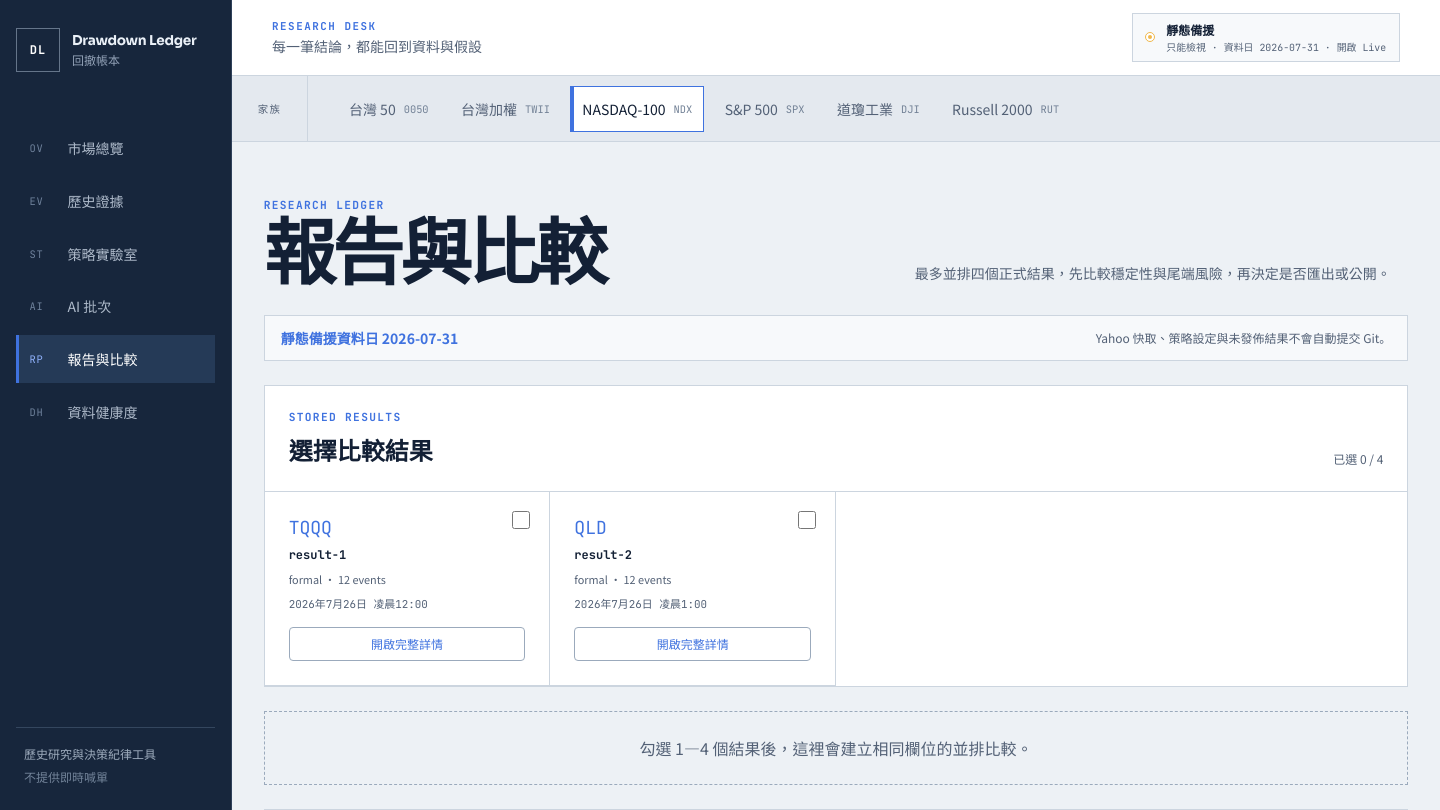
it: report and comparison ledger › selects up to four trusted results and compares their executable ratios
What coordinates should you click on to do the following:
click the checkbox named "選取結果 result-1"
I would click on:
 (521, 520)
Its box is [512,510,530,528].
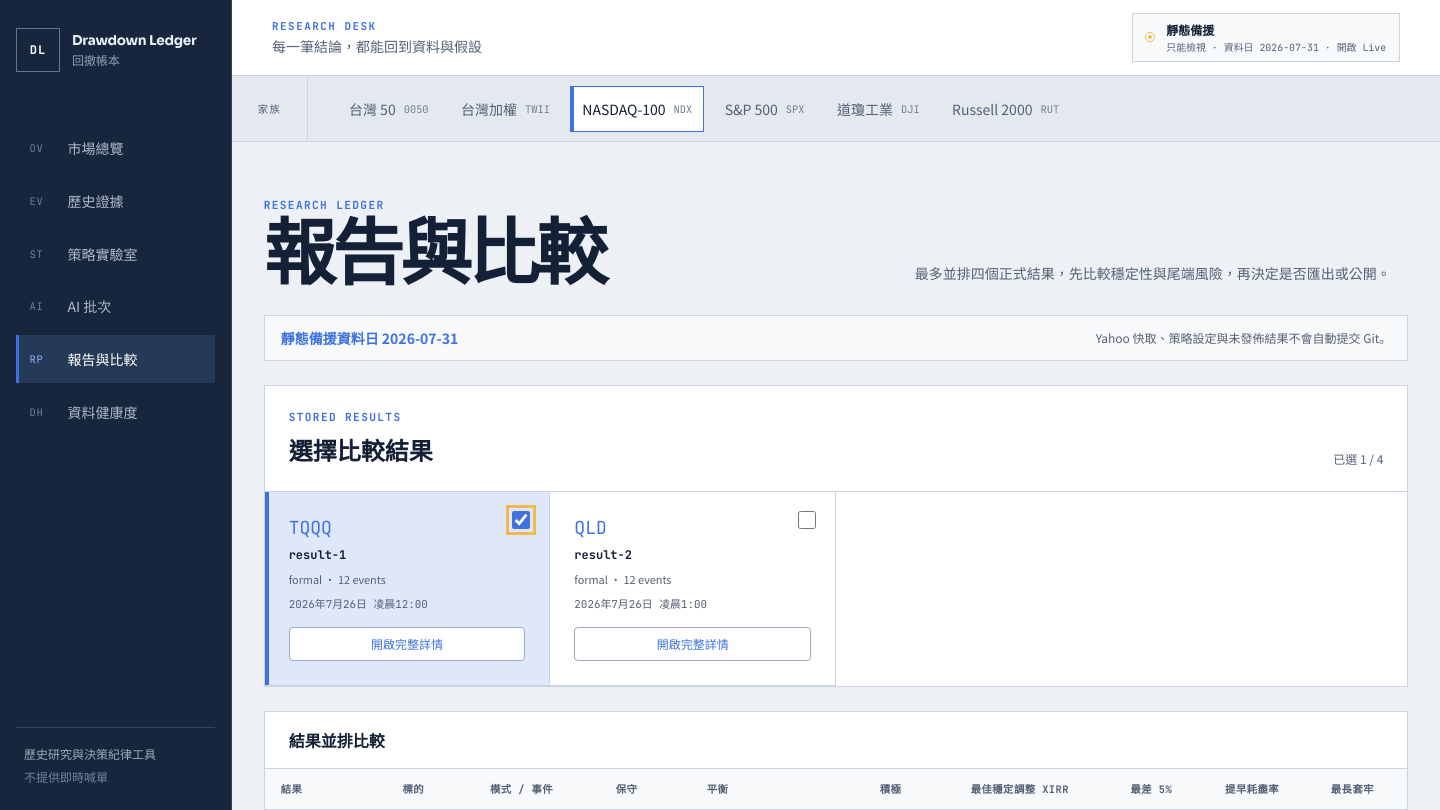
What coordinates should you click on to do the following:
click the checkbox named "選取結果 result-2"
I would click on:
 (807, 520)
Its box is [798,510,816,528].
(page scrolled)
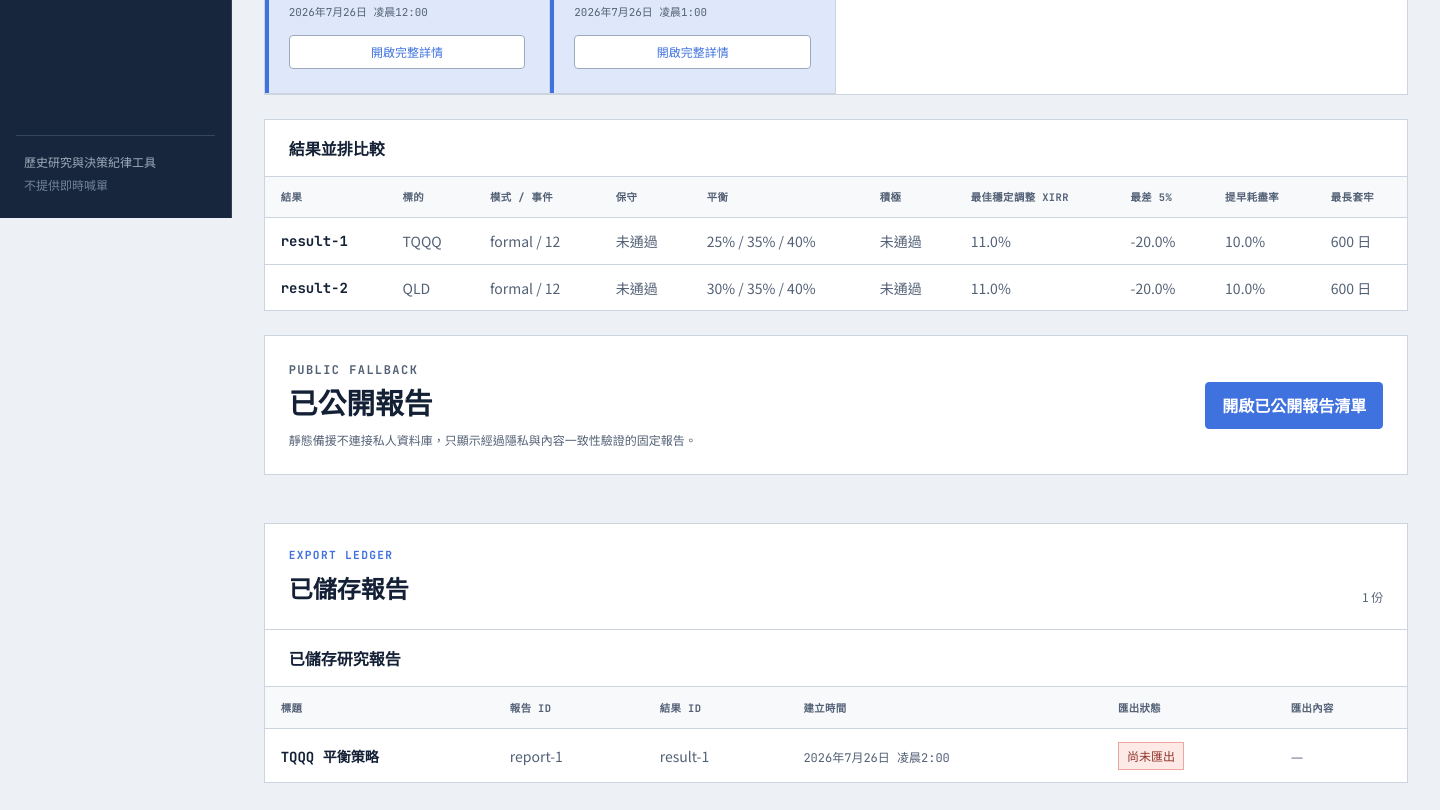
Expected: the table "結果並排比較" shows "TQQQ", [403,231,442,251]
Expected: the table "結果並排比較" shows "QLD", [403,278,430,298]
Expected: the text "30% / 35% / 40%" is shown, [691,264,864,310]
